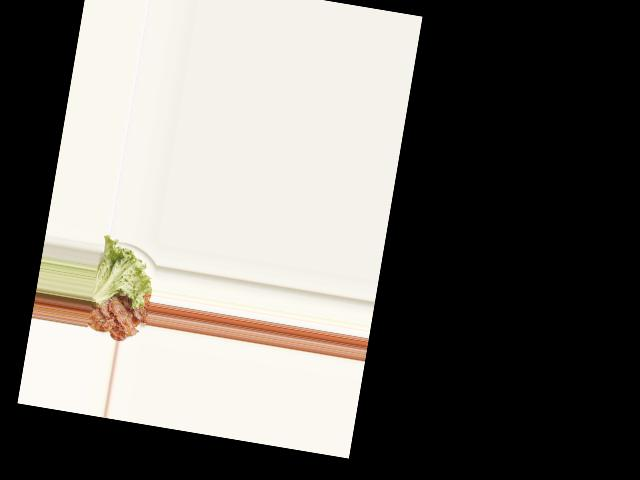lettuce: (90, 237, 157, 311)
